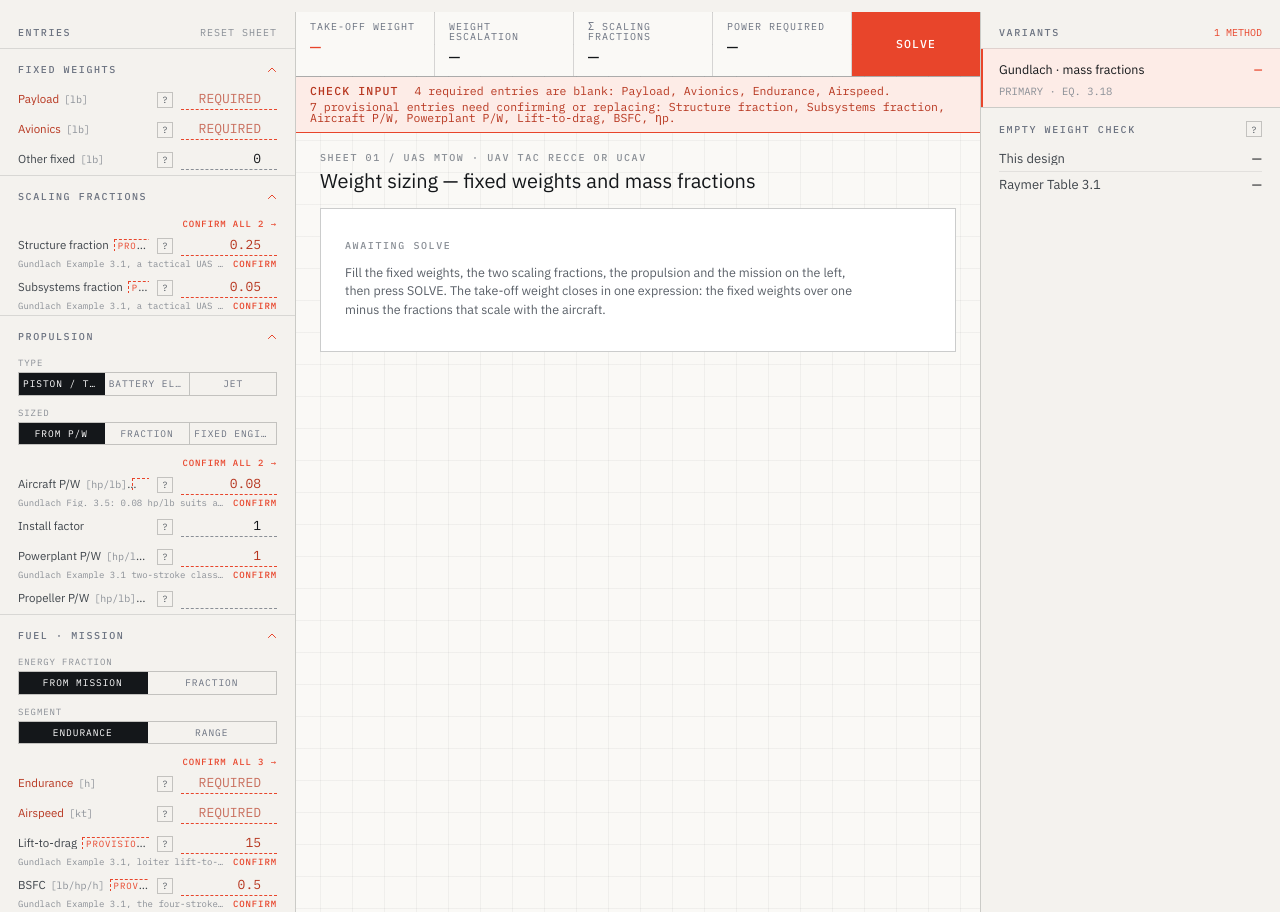
Scenario: UasSizing › confirms a whole band at once
Click the button with test id "confirm-all-fractions".
click(230, 224)  # box top-left (182, 219), bottom-right (277, 228)
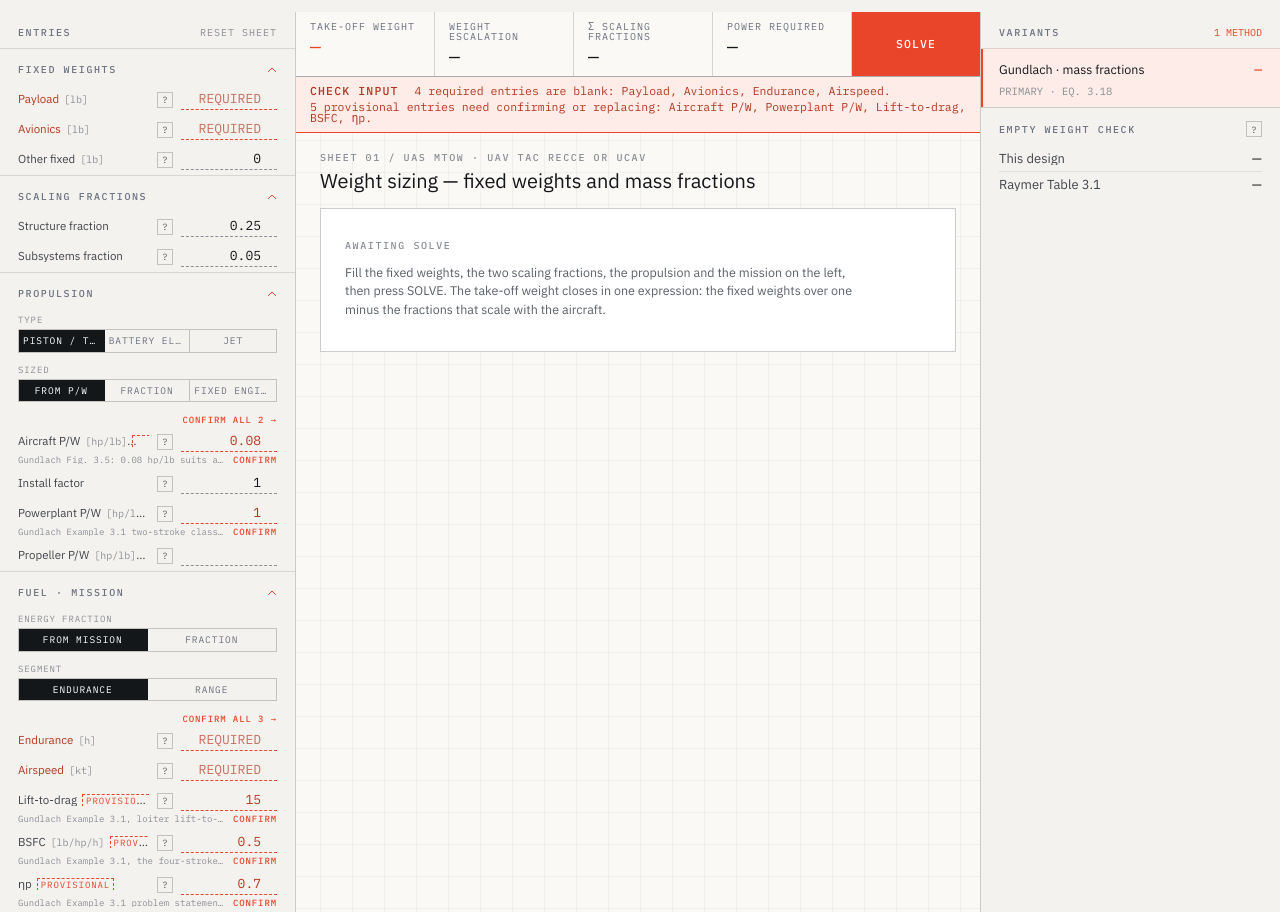
Expected: the button with test id "confirm-liftToDrag" is shown, top-left (233, 814), bottom-right (277, 823)
Expected: the button with test id "confirm-structureFraction" is gone
Expected: the button with test id "confirm-subsystemsFraction" is gone
